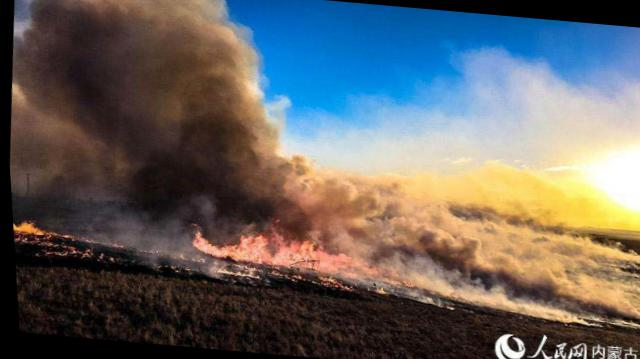fire: (184, 225, 412, 301), (10, 215, 122, 261)
